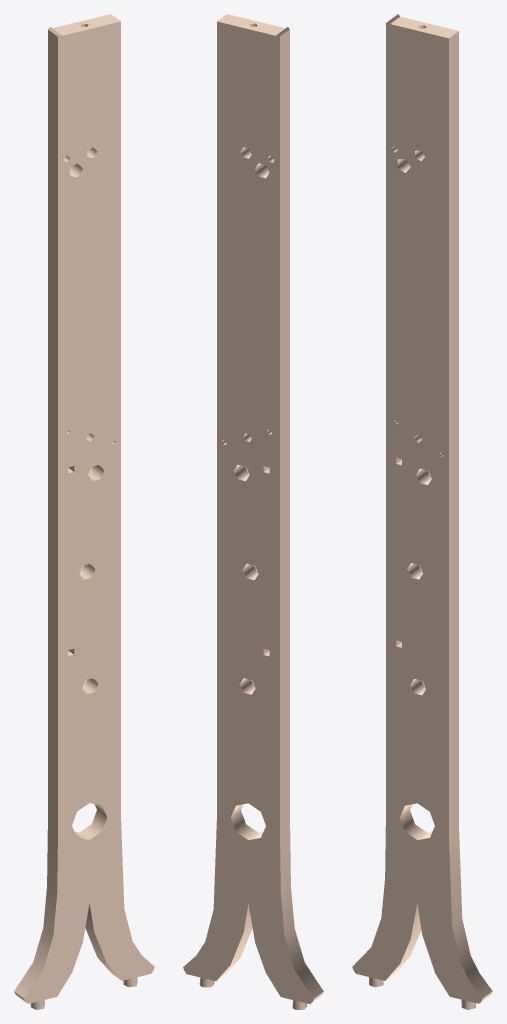
Rendered from Pilier Quarts_avant.obj.
3 views of the same model, side by side, from view 1: azimuth 30°, elevation 25°; view 2: azimuth 150°, elevation 25°; view 3: azimuth 330°, elevation 25° (orthographic).
Visible parts, largest first — view 1: Face_14, Face_11, Face_10, Face_1, Face_27, Face_7; view 2: Face_13, Face_11, Face_10, Face_1, Face_27, Face_7; view 3: Face_14, Face_4, Face_5, Face_1, Face_27, Face_8.
Boxes of the visible parts, box(x1,y1,x2,y2) form: Face_14: box(24, 21, 154, 1003); Face_11: box(48, 30, 57, 834); Face_10: box(14, 828, 57, 998); Face_1: box(53, 14, 120, 35); Face_27: box(75, 804, 106, 839); Face_7: box(85, 903, 120, 979); Face_13: box(183, 21, 313, 1003); Face_11: box(280, 30, 289, 835); Face_10: box(280, 828, 323, 998); Face_1: box(217, 14, 285, 35); Face_27: box(231, 804, 263, 839); Face_7: box(217, 904, 252, 980); Face_14: box(352, 21, 482, 1003); Face_4: box(449, 31, 458, 835); Face_5: box(449, 828, 492, 998); Face_1: box(391, 16, 458, 38); Face_27: box(400, 804, 432, 839); Face_8: box(386, 904, 421, 979).
Size of the model in its own units: 0.0445 by 0.3166 by 0.006.
